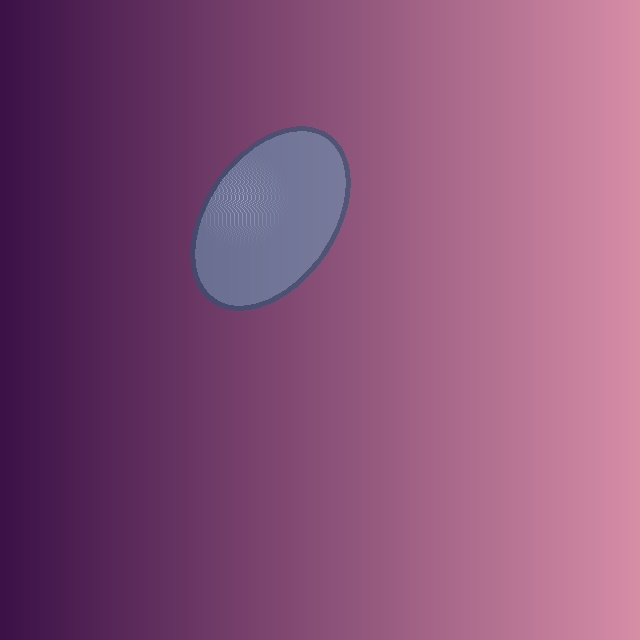lens: (192, 129, 348, 307)
